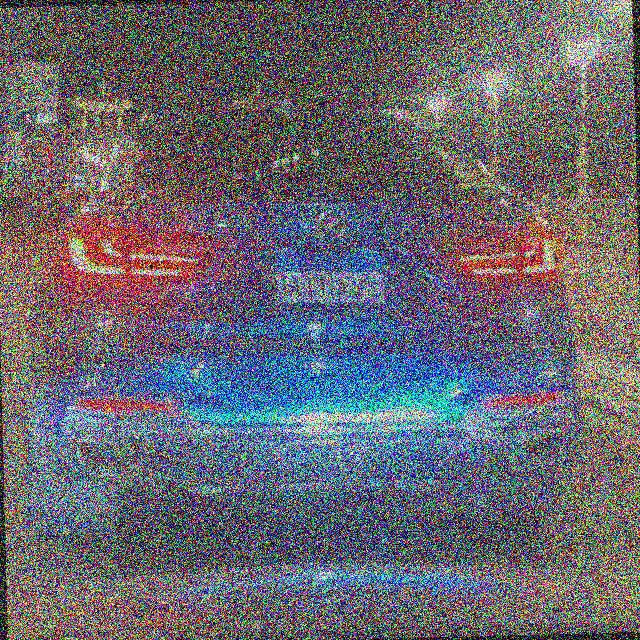License Plate: (274, 246, 388, 307)
